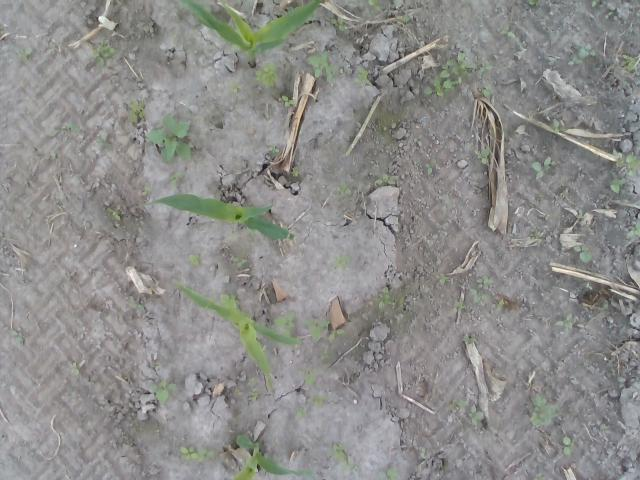Maize: (174, 282, 303, 394), (176, 0, 323, 69), (146, 194, 294, 242), (232, 433, 318, 479)
Weeds: (424, 50, 492, 96), (143, 110, 194, 166), (528, 393, 562, 428), (306, 49, 338, 80), (328, 442, 358, 472), (148, 378, 177, 408), (90, 36, 120, 65), (179, 447, 224, 464), (302, 317, 330, 344), (612, 150, 640, 176), (568, 40, 597, 65), (254, 62, 280, 89), (272, 311, 298, 337), (530, 158, 554, 179), (555, 312, 574, 336), (469, 287, 494, 305), (623, 54, 640, 80), (127, 100, 144, 125), (377, 286, 392, 312), (306, 393, 330, 409), (351, 66, 370, 85), (574, 244, 592, 263), (228, 78, 246, 96), (95, 133, 112, 151), (336, 181, 352, 200), (230, 254, 248, 270), (550, 118, 568, 134), (328, 16, 346, 32), (624, 222, 640, 240), (328, 328, 346, 344), (304, 368, 322, 384), (468, 404, 481, 426), (561, 435, 574, 456), (367, 0, 384, 16), (128, 296, 145, 312), (8, 328, 24, 344), (608, 178, 624, 194), (528, 0, 544, 16), (476, 275, 494, 288), (474, 150, 490, 164), (16, 48, 32, 61), (67, 360, 80, 376), (335, 256, 352, 268), (374, 175, 392, 186), (106, 207, 120, 221), (386, 466, 400, 480), (64, 120, 80, 132), (248, 378, 256, 400), (434, 272, 448, 284), (500, 28, 516, 38), (463, 335, 479, 345), (320, 350, 336, 360), (169, 173, 181, 186), (282, 95, 294, 108), (530, 228, 542, 241), (402, 14, 414, 26), (294, 407, 308, 417), (256, 339, 266, 352), (190, 254, 200, 266), (292, 164, 300, 178), (424, 162, 432, 175), (141, 186, 150, 197), (454, 399, 464, 408), (601, 301, 609, 312), (222, 294, 236, 300), (272, 146, 280, 156), (284, 64, 292, 74), (456, 303, 464, 312), (534, 473, 544, 480), (496, 300, 500, 308)
